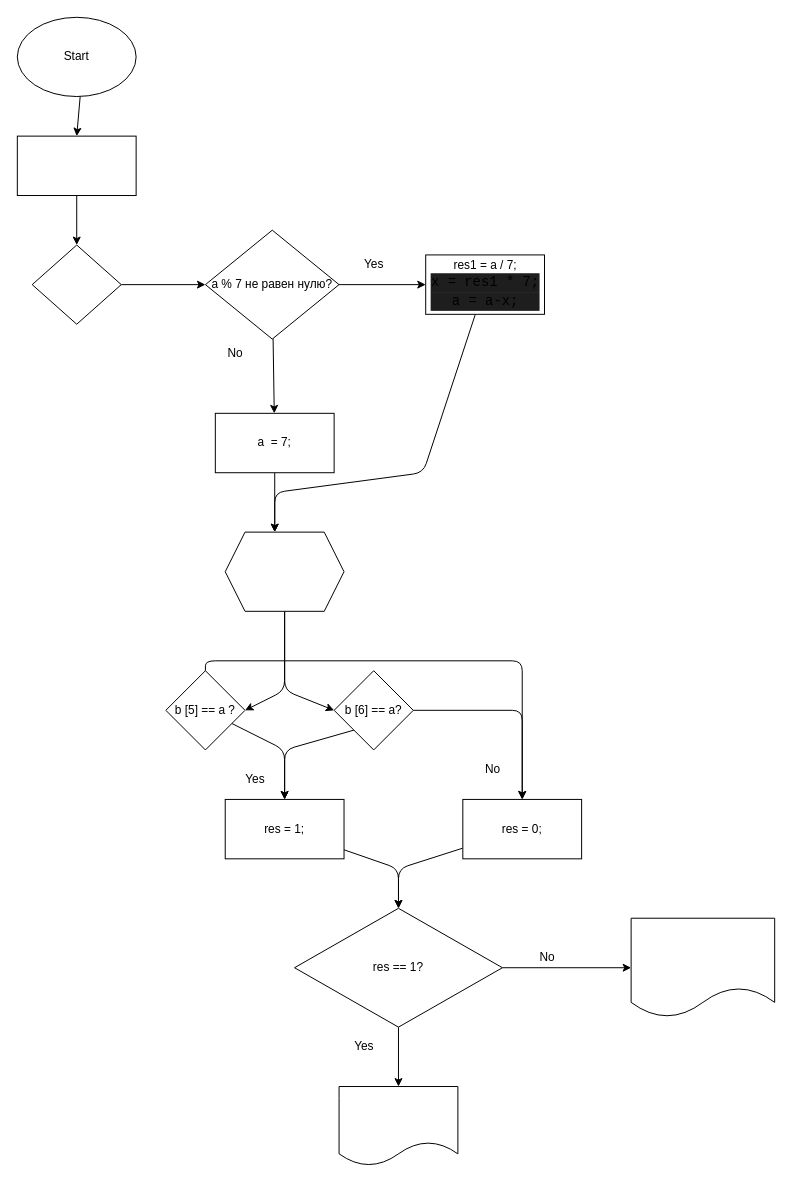
Image size: 792x1183. Some labels were removed from this diagram. Here are the shapes that lost their labels. From the top down, the centre of each, then its label:
At [76,165]: "a = Введите число b []= [1, 2, 3, 4, 5, 6, 7] count = 7; n =0;".
At [76,284]: "a > 7".
At [284,571]: "n < count".
At [702,967]: "Рабочий день".
At [398,1126]: "Выходной!!:)".
